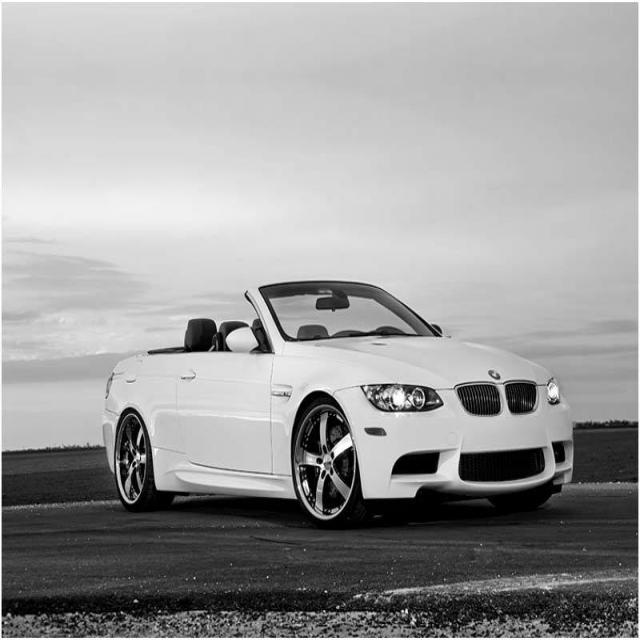car: (101, 277, 574, 528)
